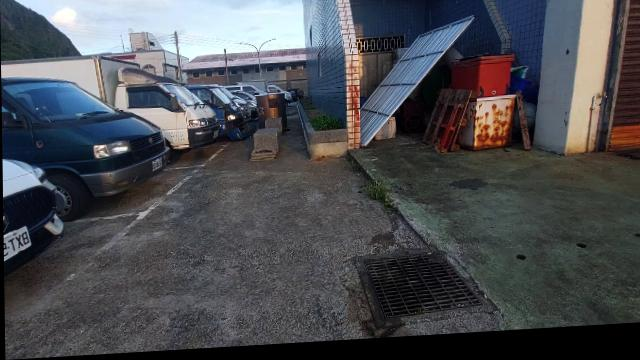pollute: (423, 94, 479, 158), (461, 101, 517, 157), (449, 60, 514, 102), (511, 72, 537, 111), (516, 101, 532, 156), (401, 103, 423, 139), (372, 121, 396, 146), (525, 110, 535, 138)
